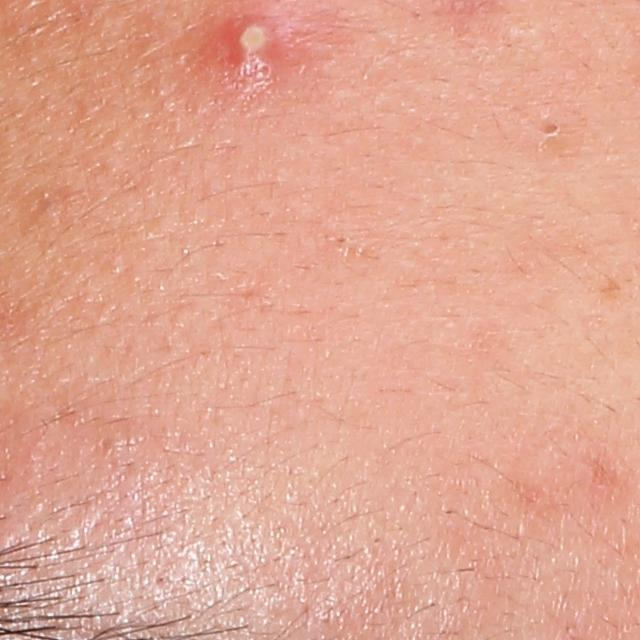comedo: (531, 115, 567, 152)
